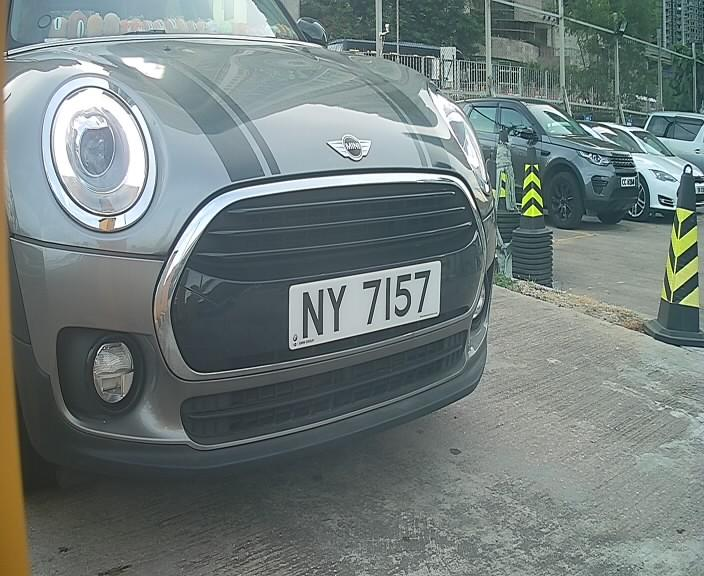License Plate: (274, 258, 447, 350)
